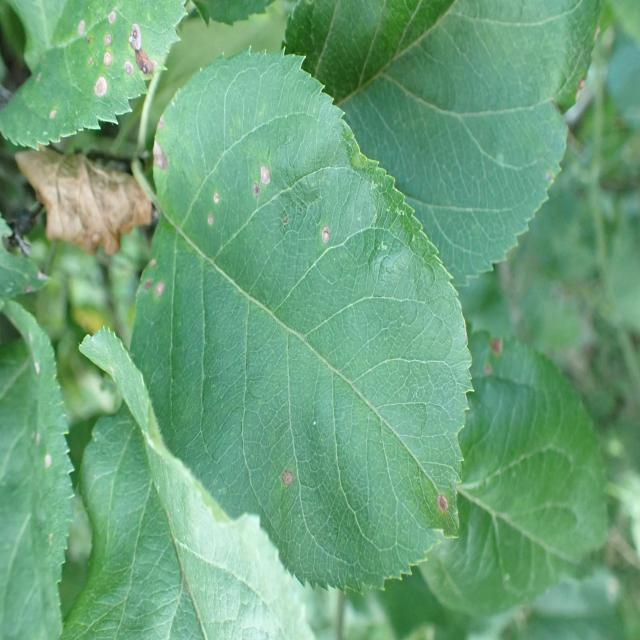frog-eye-leaf-spot: (129, 45, 477, 596), (0, 0, 190, 151)
